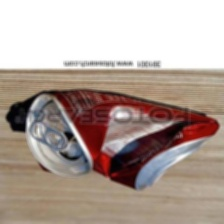can: (20, 85, 220, 191)
